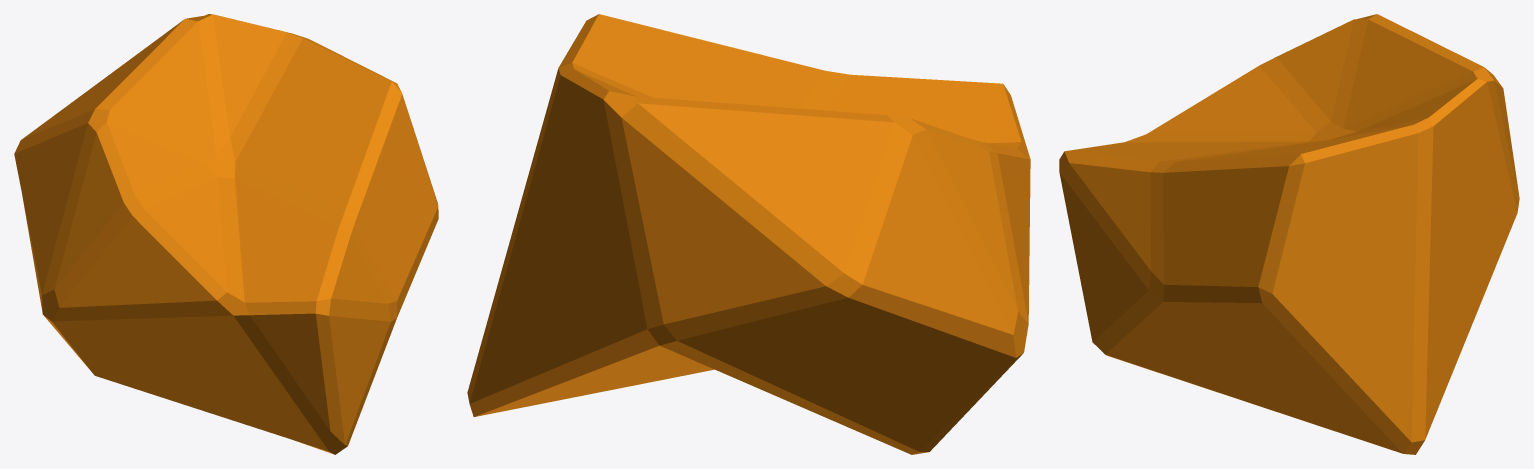
Rendered from Roca6.fbx.
3 views of the same model, side by side, from view 1: azimuth 30°, elevation 25°; view 2: azimuth 150°, elevation 25°; view 3: azimuth 270°, elevation 25° (orthographic). The views are drawn at different scales.
Parts seen in each view (by area): view 1: Cube.001; view 2: Cube.001; view 3: Cube.001.
Boxes of the visible parts, x1,y1,x2,y2 form: Cube.001: [14, 14, 438, 454]; Cube.001: [467, 14, 1030, 454]; Cube.001: [1059, 14, 1519, 454].
Size of the model in its own units: 484 by 368 by 495.
